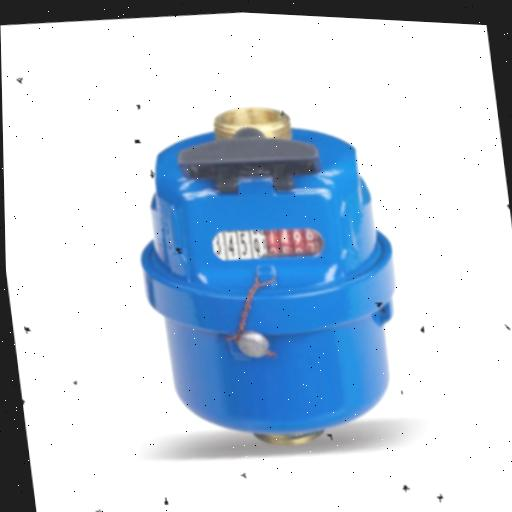1: (265, 230, 280, 257)
3: (211, 231, 226, 260)
4: (224, 231, 239, 260), (279, 229, 293, 256)
5: (237, 230, 252, 258)
6: (304, 227, 326, 255)
9: (250, 231, 267, 258), (291, 228, 305, 255)
border_water_meter_number: (211, 220, 327, 267)
